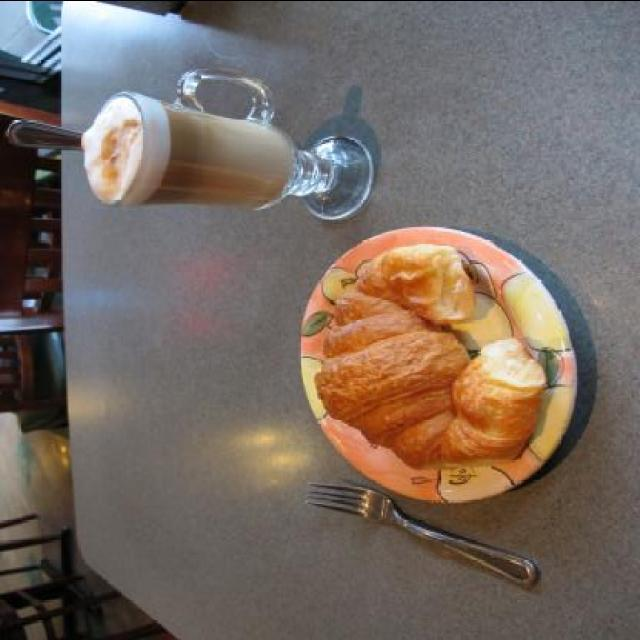Croissant: (322, 241, 552, 473)
